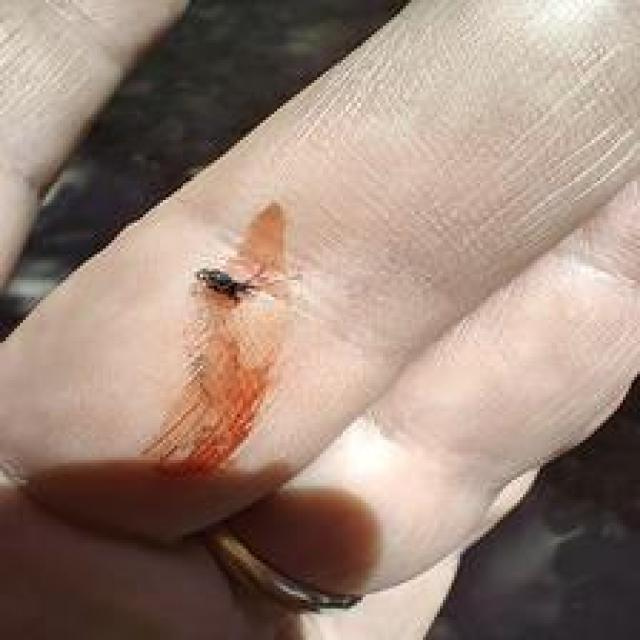Aedes albopictus: (137, 198, 303, 482)
